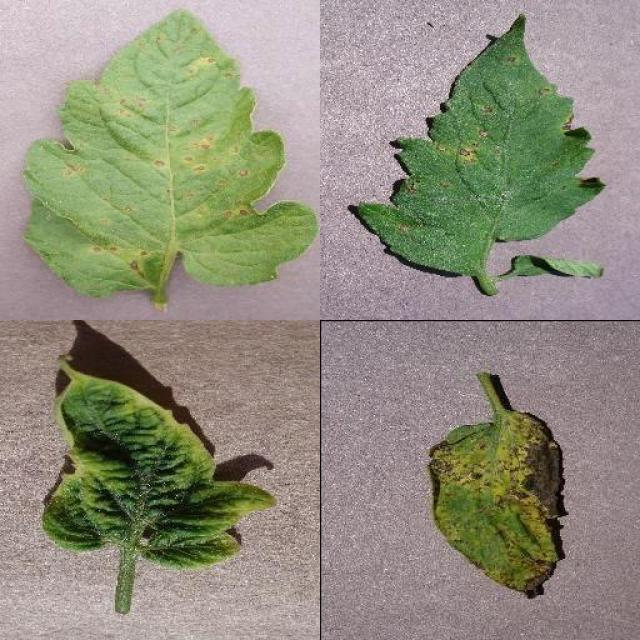Septoria: (29, 9, 318, 298), (353, 12, 608, 276), (426, 410, 564, 598)
